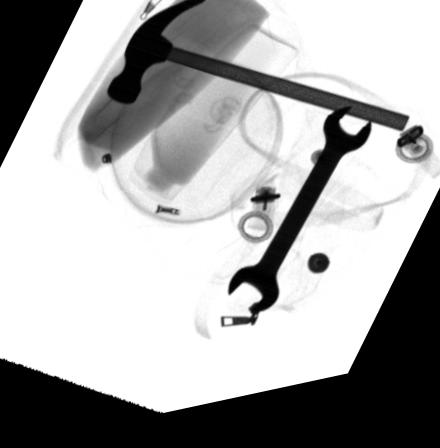Hammer: (104, 2, 412, 149)
Wrench: (228, 117, 370, 327)
